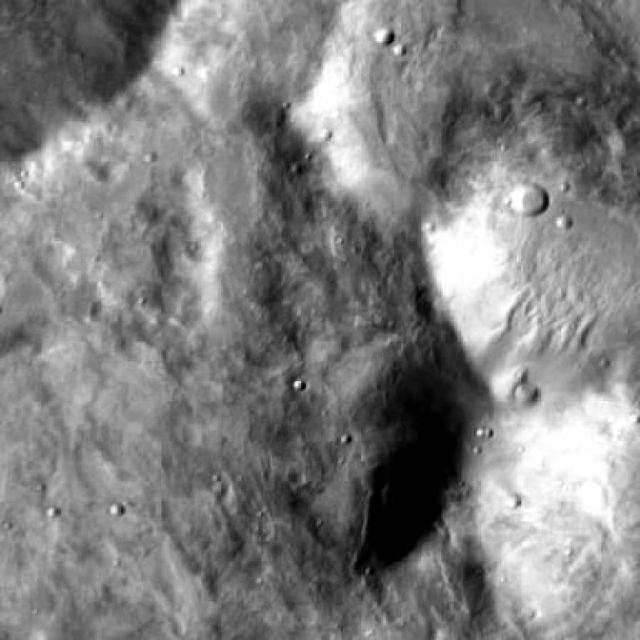crater: (297, 0, 640, 240), (411, 116, 640, 390), (508, 182, 540, 210), (514, 386, 538, 406), (373, 28, 393, 46)
